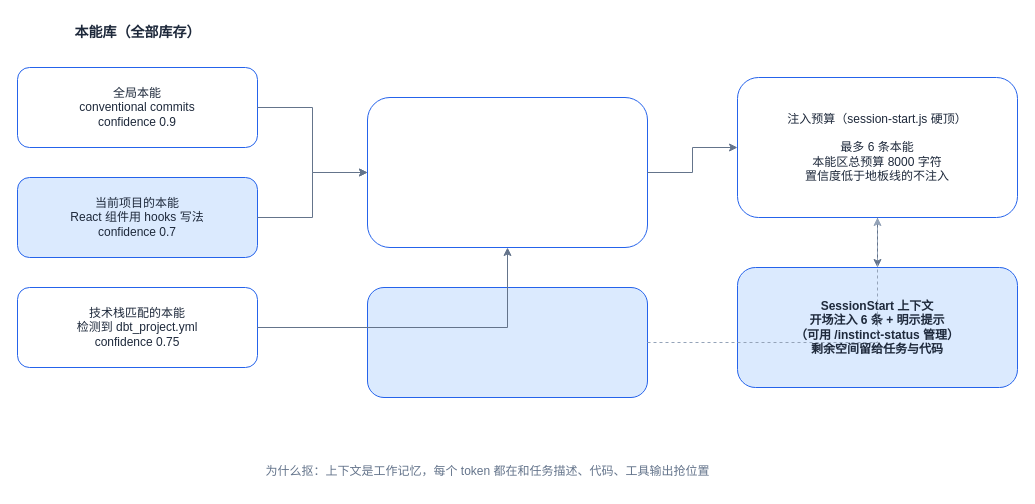
Some shapes in this 1035 by 504 pixel diagram are drawn without their labels. Here are the shapes that lost their labels. From the top down, the centre of each, then its label:
[507,172]: 排序公式 最终分 = confidence + 场景相关性加成 项目内本能 +0.25 栈匹配本能 +0.2 （加成钉死，不给调成旋钮）
[507,342]: 0.7 + 0.25 = 0.95 压过不相干的全局 0.9 设计意图：被验证最充分的记忆 不一定是此刻最用得上的记忆
